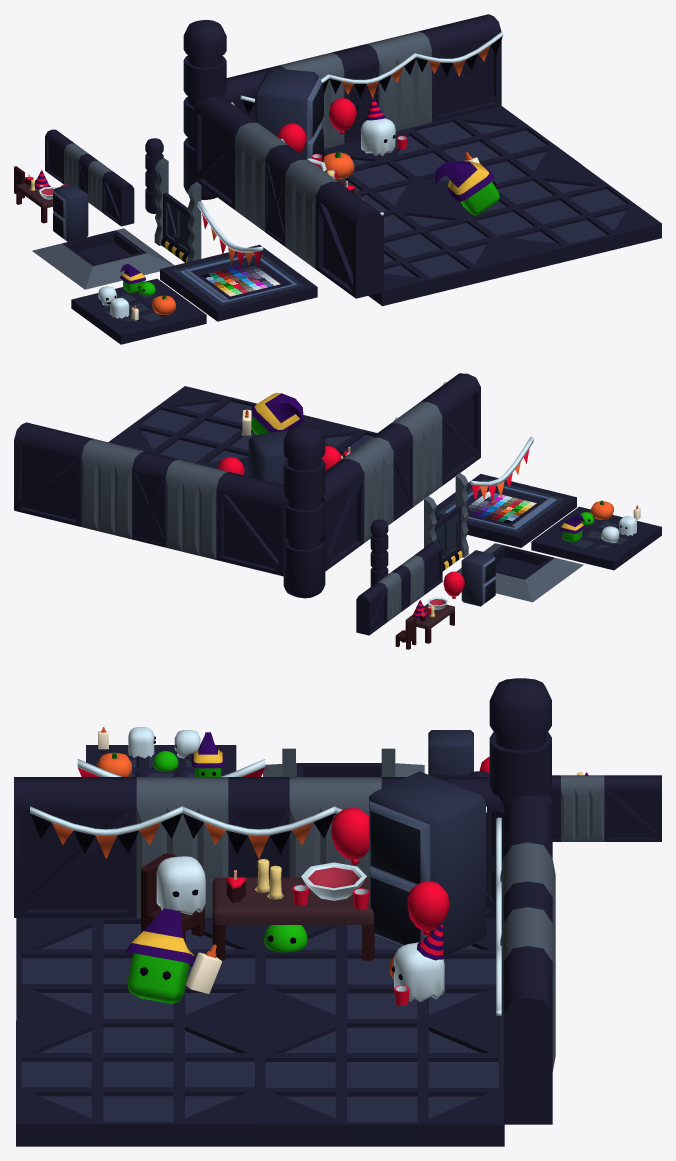
File: party3.glb
3 renders of one model, top to bottom at view 1: azimuth 30°, elevation 25°; view 2: azimuth 150°, elevation 25°; view 3: azimuth 270°, elevation 25°, orthographic. The views are drawn at different scales.
Parts seen in each view (by area): view 1: Wall_20, Wall.001_26, Floor.003_28, Floor_21, Floor.002_27, Cube.012_58, Cube.008_0, Cube.019_38, Woofer_22, Cube.010_6, Cube.007_60, Floor.001_25 (+15 smaller); view 2: Wall.001_26, Wall_20, Floor.003_28, Cube.019_38, Cube.007_60, Cube.010_6, Cube.012_58, Cube.008_0, Cube.013_59, Woofer_22, frend_23, Cube.016_57 (+9 smaller); view 3: Wall_20, Floor.003_28, Floor.002_27, Floor_21, Wall.001_26, Woofer_22, Floor.001_25, Cube.019_38, Cube.007_60, table.001_36, frend_23, Cube.021_40 (+16 smaller).
Boxes of the visible parts, bbox=[...] form: Wall_20: bbox=[194, 96, 383, 298]; Wall.001_26: bbox=[222, 14, 501, 148]; Floor.003_28: bbox=[442, 164, 661, 272]; Floor_21: bbox=[368, 198, 521, 306]; Floor.002_27: bbox=[383, 106, 581, 198]; Cube.012_58: bbox=[160, 244, 317, 321]; Cube.008_0: bbox=[32, 228, 174, 289]; Cube.019_38: bbox=[183, 19, 226, 199]; Woofer_22: bbox=[255, 68, 323, 161]; Cube.010_6: bbox=[71, 278, 206, 344]; Cube.007_60: bbox=[45, 129, 134, 226]; Floor.001_25: bbox=[324, 140, 441, 212]; Wall.001_26: bbox=[14, 422, 288, 576]; Wall_20: bbox=[321, 373, 480, 571]; Floor.003_28: bbox=[108, 386, 319, 473]; Cube.019_38: bbox=[283, 424, 325, 598]; Cube.007_60: bbox=[356, 542, 442, 635]; Cube.010_6: bbox=[531, 506, 661, 570]; Cube.012_58: bbox=[434, 474, 576, 547]; Cube.008_0: bbox=[456, 543, 583, 602]; Cube.013_59: bbox=[466, 486, 546, 526]; Woofer_22: bbox=[248, 430, 288, 484]; frend_23: bbox=[251, 392, 303, 434]; Cube.016_57: bbox=[461, 550, 495, 606]; Wall_20: bbox=[14, 777, 503, 917]; Floor.003_28: bbox=[16, 1020, 260, 1146]; Floor.002_27: bbox=[259, 1021, 504, 1146]; Floor_21: bbox=[16, 918, 260, 1020]; Wall.001_26: bbox=[500, 794, 555, 1124]; Woofer_22: bbox=[369, 771, 485, 957]; Floor.001_25: bbox=[259, 918, 500, 1021]; Cube.019_38: bbox=[489, 678, 551, 901]; Cube.007_60: bbox=[431, 775, 661, 841]; table.001_36: bbox=[212, 877, 374, 960]; frend_23: bbox=[125, 908, 195, 1003]; Cube.021_40: bbox=[182, 806, 335, 858].
Size of the model in its own units: 18.53 by 5.84 by 13.22.
Materials: 56 (56 with a texture image).
